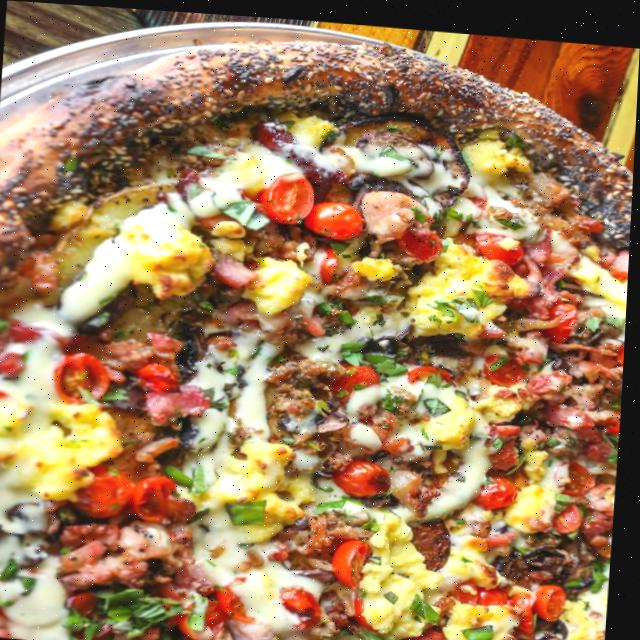basil: (67, 579, 198, 640), (422, 272, 503, 325), (342, 325, 415, 374), (0, 555, 48, 611), (225, 489, 280, 524), (221, 192, 272, 228), (166, 453, 217, 487), (184, 582, 219, 629), (412, 587, 452, 622), (440, 196, 483, 225), (358, 616, 408, 640), (315, 296, 362, 320), (312, 488, 357, 513), (462, 613, 503, 640), (589, 545, 616, 586), (421, 387, 460, 411), (381, 578, 414, 601), (382, 381, 409, 409), (361, 508, 391, 531), (604, 425, 623, 456), (537, 426, 563, 447), (603, 302, 629, 320)
mushrooms: (152, 405, 209, 466), (171, 319, 218, 385), (311, 393, 360, 432), (343, 165, 408, 189), (524, 532, 571, 563), (536, 611, 579, 640)
pizza: (0, 8, 640, 640)
tomatoes: (178, 575, 259, 640), (72, 457, 146, 516), (50, 344, 119, 407), (512, 574, 583, 631), (255, 163, 319, 221), (302, 192, 368, 237), (485, 405, 536, 463), (134, 468, 187, 523), (337, 524, 385, 583), (338, 448, 399, 494), (478, 338, 543, 379), (396, 214, 451, 259), (451, 567, 517, 602), (470, 467, 529, 505), (546, 289, 592, 337), (336, 356, 387, 397), (560, 451, 606, 492), (281, 582, 330, 617), (477, 224, 527, 258), (314, 241, 351, 282), (407, 355, 456, 380), (554, 495, 591, 527), (606, 240, 632, 274), (603, 404, 624, 430), (0, 386, 14, 413), (617, 334, 628, 361)
